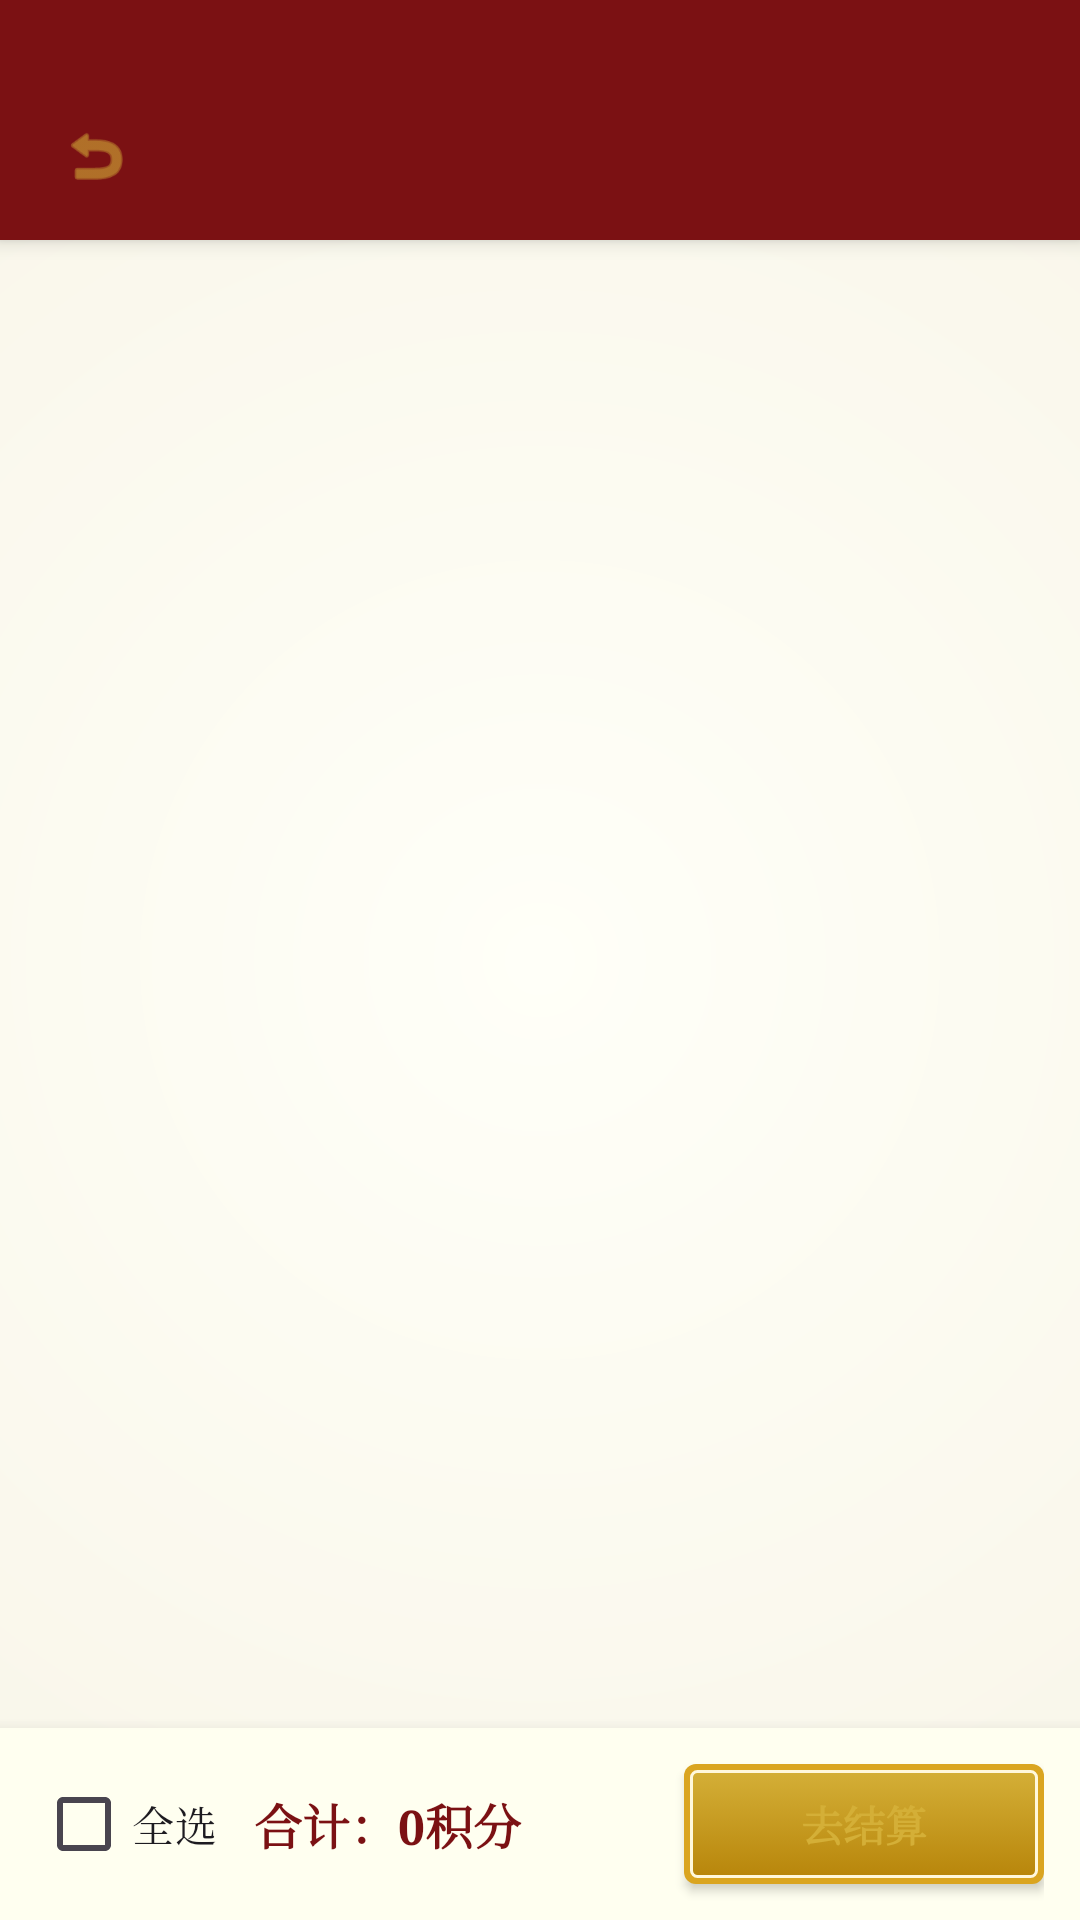

Icon click points for this 1080 × 1920 phone screenshot, format [x,y]:
revert: [97,156]
